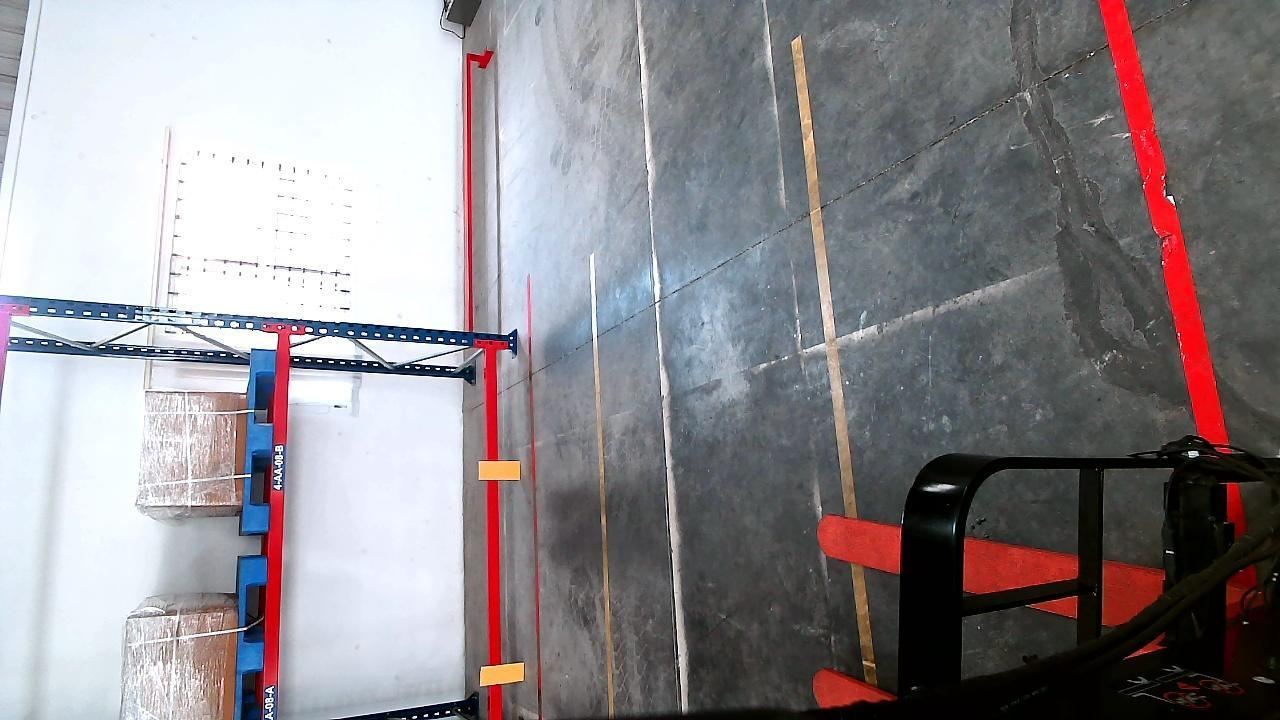h_rack: (263, 336, 292, 710), (481, 359, 507, 720)
orange_strip: (481, 661, 526, 687), (481, 458, 524, 481)
small_pallet: (244, 344, 278, 538), (235, 562, 268, 711)
yellow_line: (785, 36, 856, 515), (589, 253, 622, 718)
